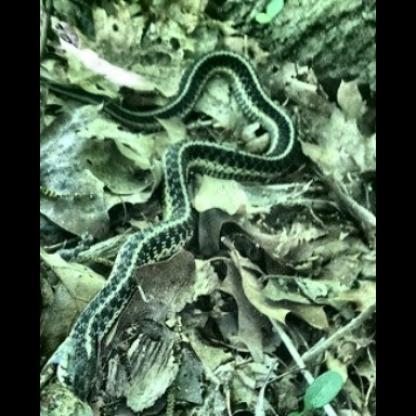Snake: (143, 47, 305, 248), (48, 242, 153, 390)
